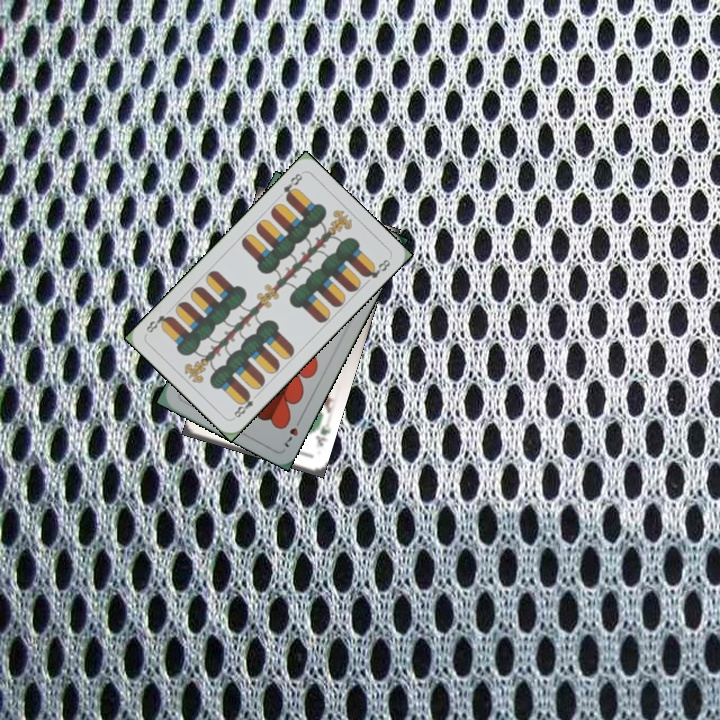E8: (279, 169, 305, 203), (229, 389, 256, 421)
GK: (312, 420, 333, 449)
H7: (280, 413, 305, 450)
